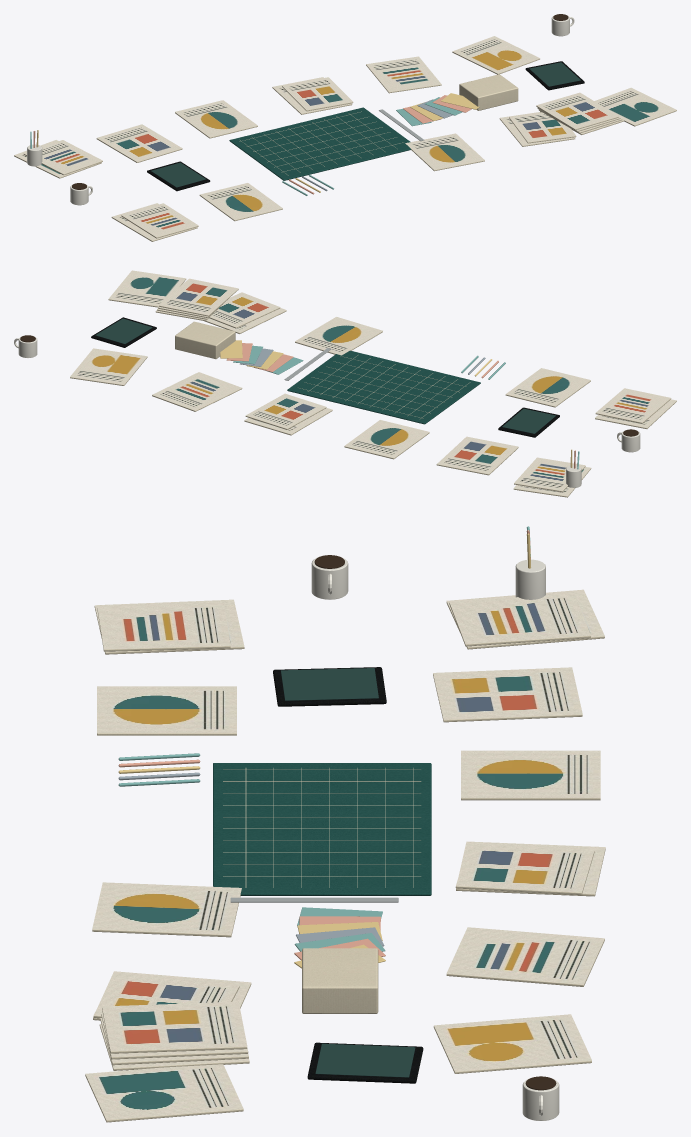
Rendered from production-table-dressed-v1.glb.
The picture shows the model from 3 angles, top to bottom: view 1: azimuth 30°, elevation 25°; view 2: azimuth 150°, elevation 25°; view 3: azimuth 270°, elevation 25°; orthographic projection. The views are drawn at different scales.
Parts seen in each view (by area): view 1: Large cutting mat; view 2: Large cutting mat; view 3: Large cutting mat.
Part boxes in pixels (box(x1,y1,x2,y2)): Large cutting mat: box(14, 14, 676, 241); Large cutting mat: box(14, 270, 676, 497); Large cutting mat: box(85, 526, 605, 1122).
Size of the model in its own units: 5.05 by 0.2981 by 2.05.
12 materials, 4 textured.
